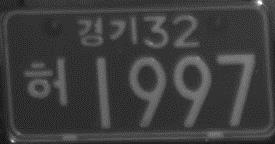1: (93, 53, 115, 134)
2: (173, 13, 200, 49)
3: (141, 14, 170, 49)
7: (215, 52, 258, 130)
9: (171, 54, 214, 129), (125, 55, 165, 130)
경기_O: (75, 16, 140, 47)
허: (24, 56, 68, 108)
